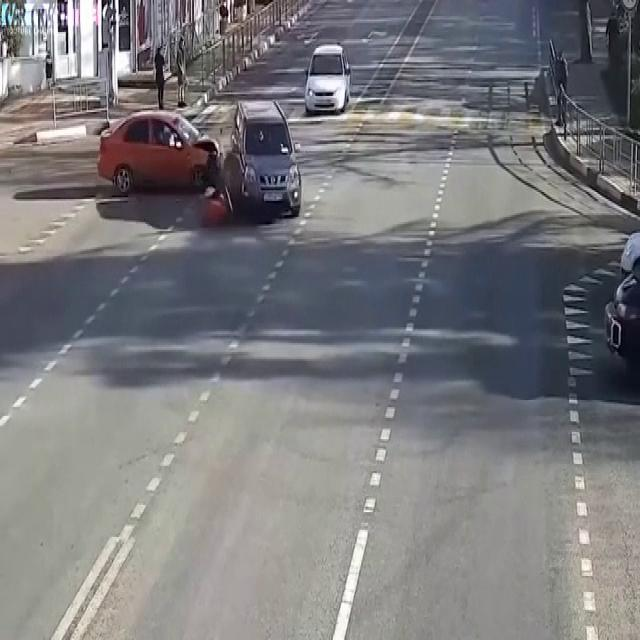accident: (165, 87, 308, 228)
